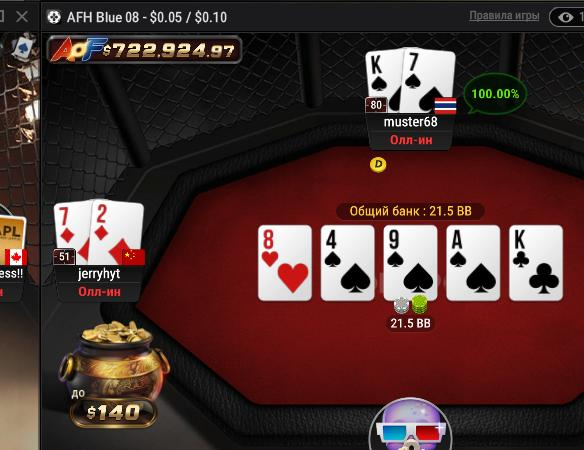2d: (91, 198, 144, 266)
4s: (322, 225, 375, 301)
7d: (54, 201, 92, 265)
7s: (402, 48, 455, 114)
8h: (259, 225, 311, 301)
9s: (384, 225, 437, 300)
As: (447, 226, 500, 299)
Kc: (511, 226, 564, 299)
Ks: (364, 49, 403, 116)
